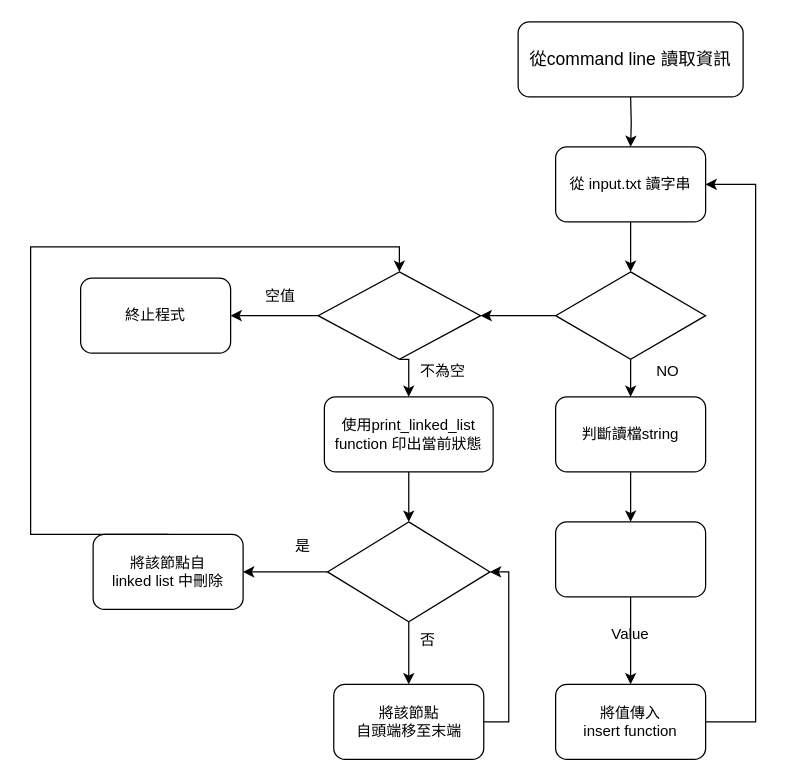
Image size: 788x781. Some labels were removed from this diagram. The box of each missing label's shape, as (x1, y1, x2, y2) in pixels:
判斷linked list 是否為空: (317, 271, 481, 359)
判斷是否讀到EOF: (554, 271, 706, 359)
判斷第一個節點 是否為該取出的牌: (326, 521, 490, 622)
將string[0]放入 int_to_char function: (554, 521, 706, 597)
